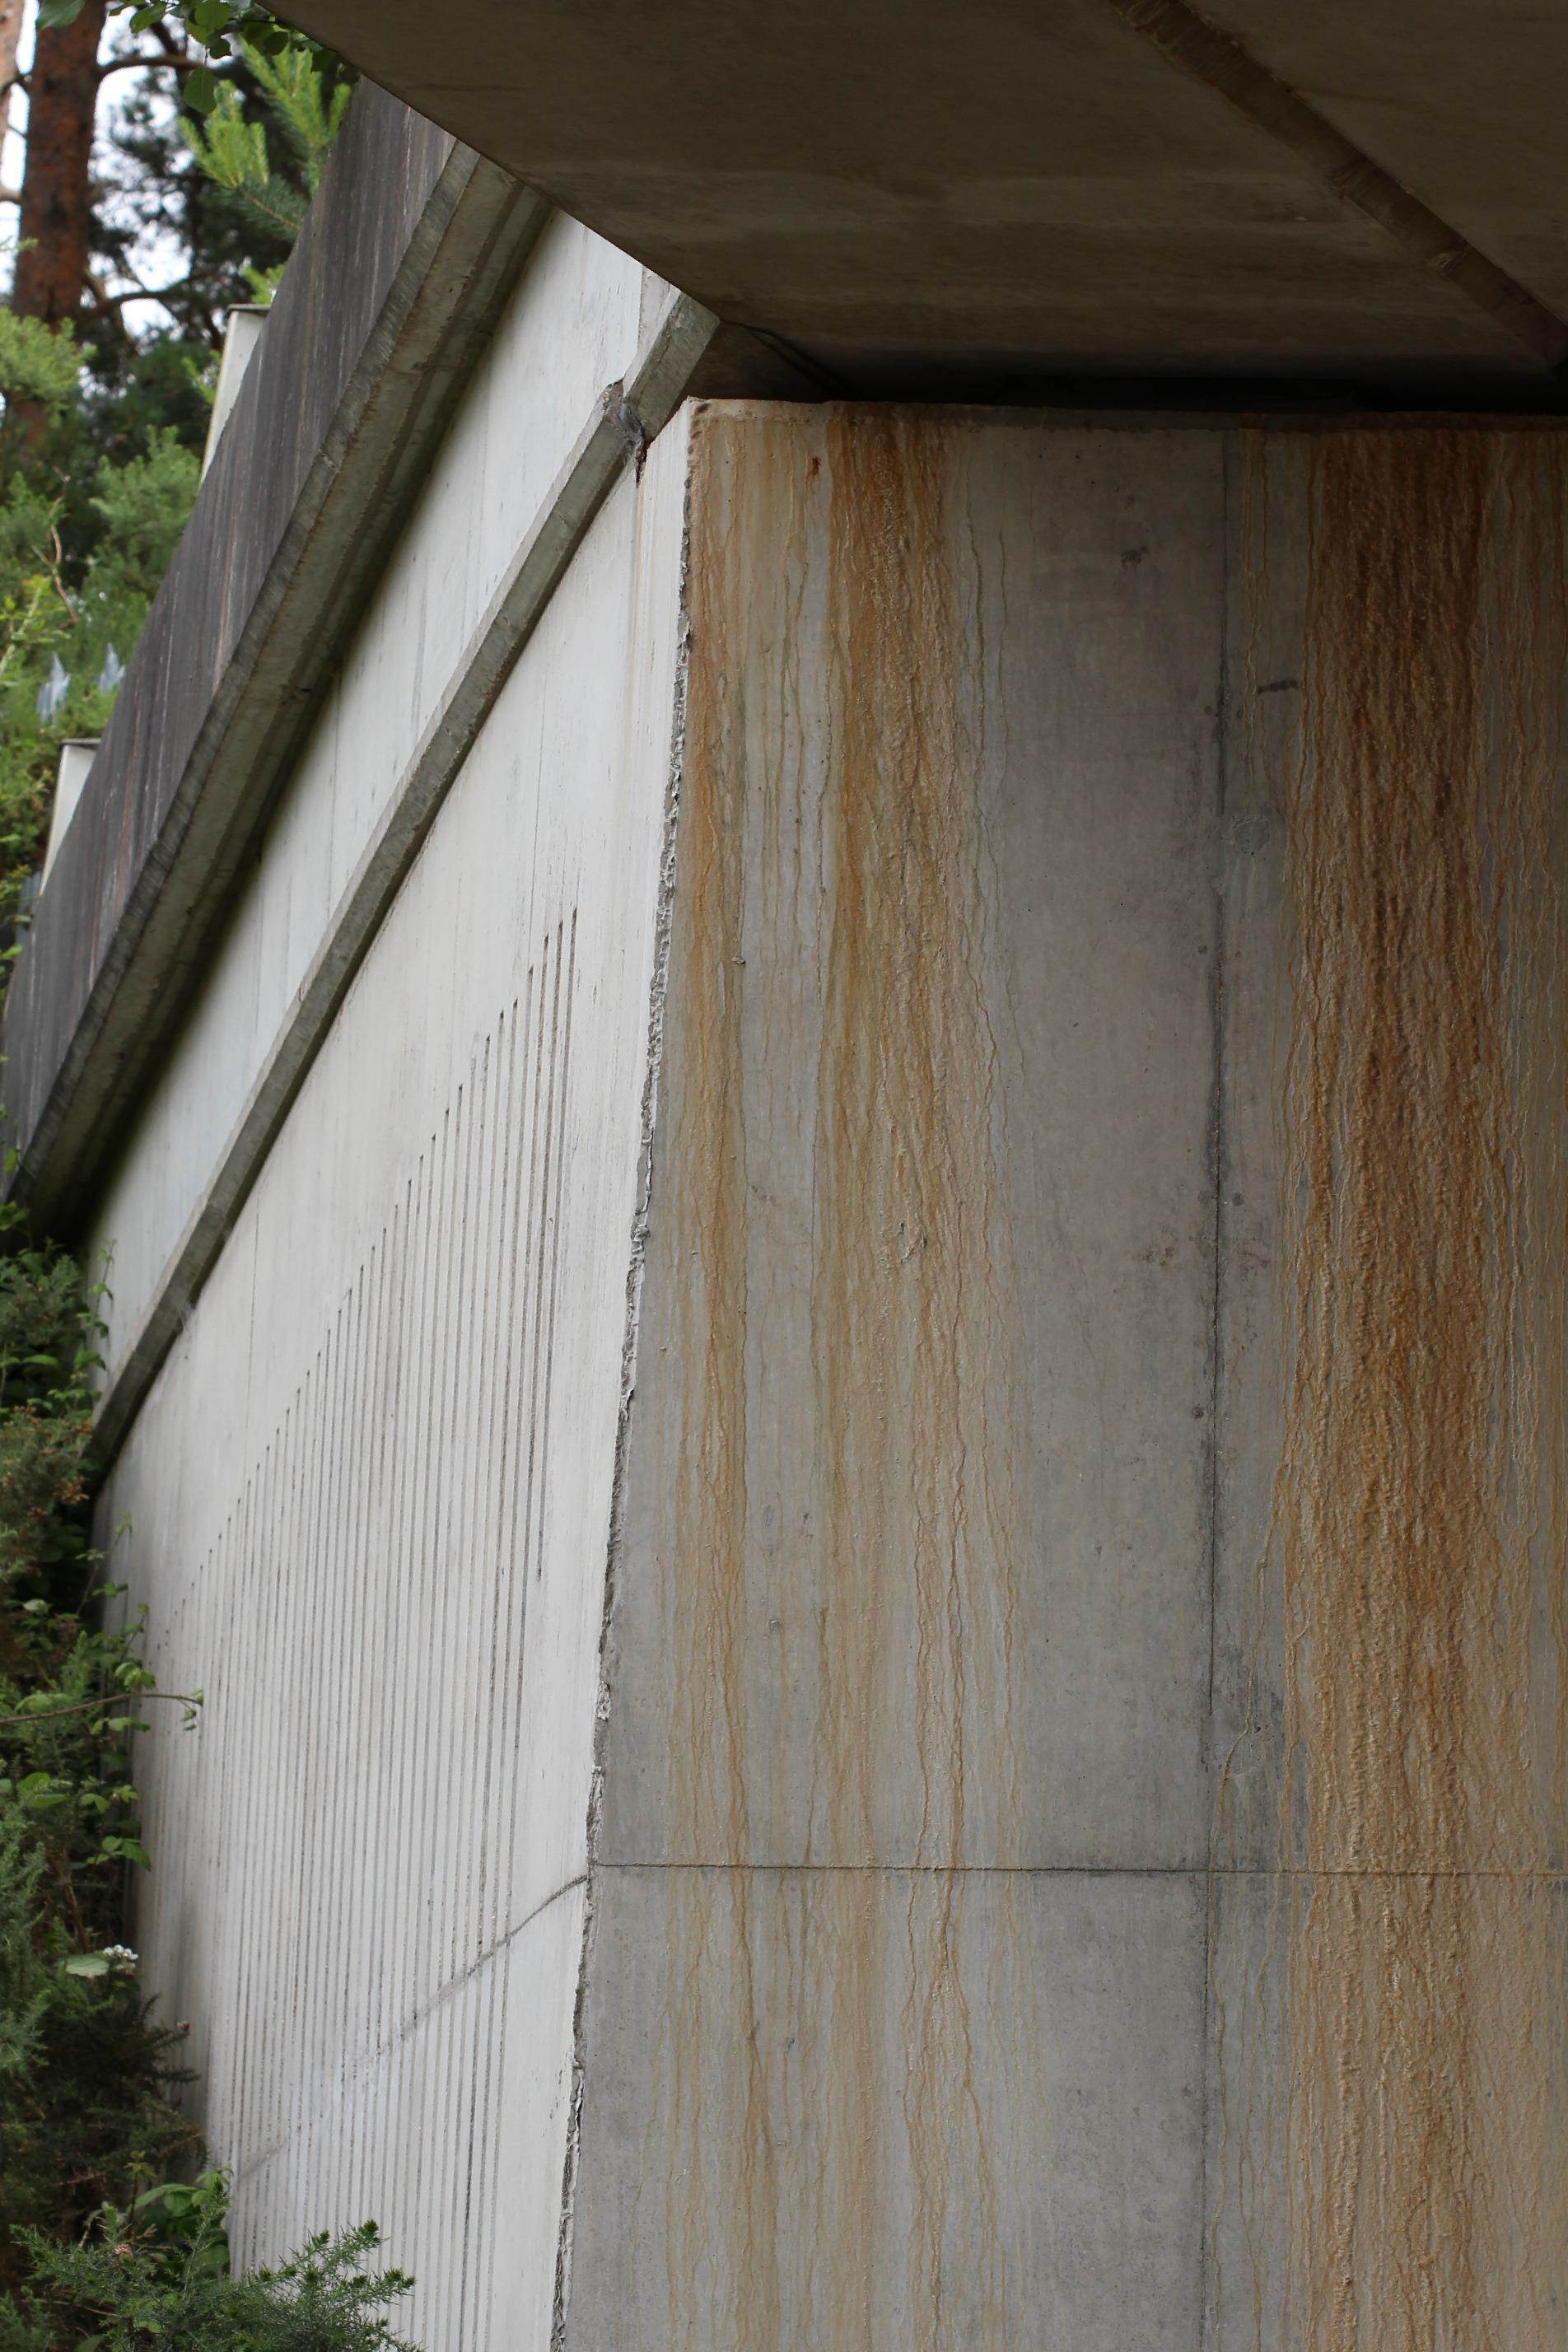Corrosion: (1241, 429, 1568, 2352), (695, 401, 1018, 2322)
Exposed reinforcement: (1253, 677, 1298, 698)
Spalling: (546, 476, 695, 2352), (600, 378, 647, 488)
